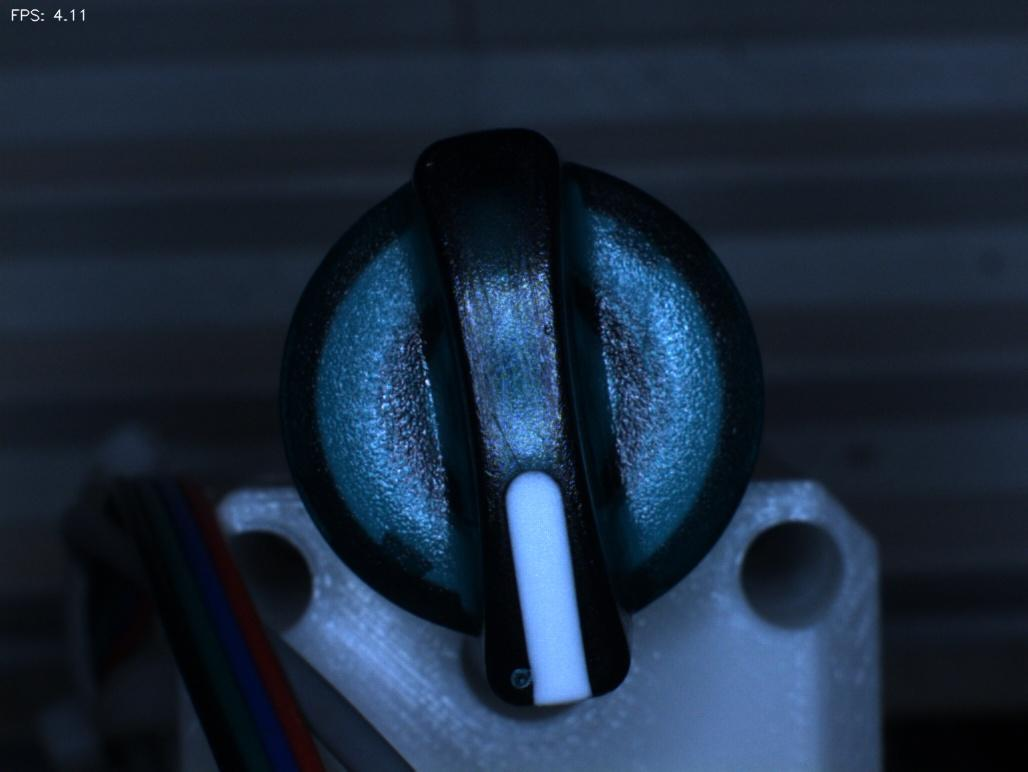Choc: (475, 643, 567, 724)
